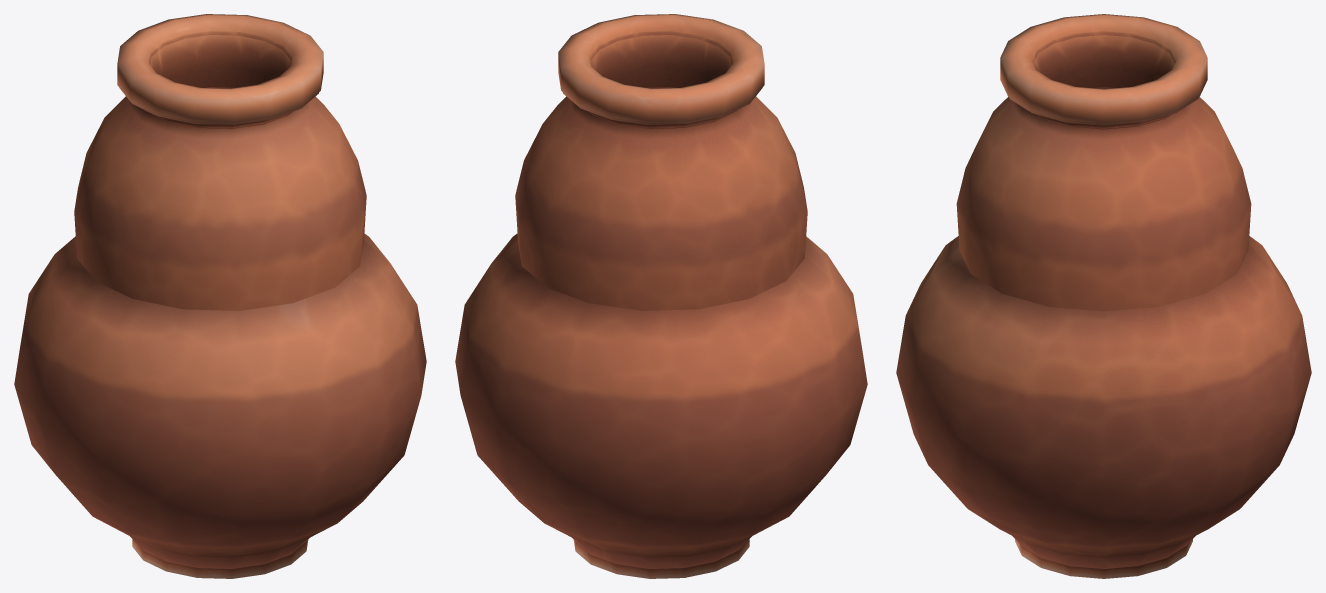
Rendered from 3pots_exp1.fbx.
3 renders of one model, left to right at view 1: azimuth 30°, elevation 25°; view 2: azimuth 150°, elevation 25°; view 3: azimuth 270°, elevation 25°, orthographic.
Parts seen in each view (by area): view 1: pot1_low, pot3_low, pot2_low; view 2: pot1_low, pot3_low, pot2_low; view 3: pot1_low, pot3_low, pot2_low.
Boxes of the visible parts, left/top/right/bottom form: pot1_low: left=14, top=233, right=426, bottom=578; pot3_low: left=74, top=14, right=366, bottom=310; pot2_low: left=119, top=31, right=318, bottom=568; pot1_low: left=455, top=233, right=867, bottom=578; pot3_low: left=515, top=14, right=807, bottom=310; pot2_low: left=563, top=31, right=762, bottom=568; pot1_low: left=896, top=236, right=1311, bottom=578; pot3_low: left=956, top=14, right=1251, bottom=311; pot2_low: left=1009, top=31, right=1198, bottom=568.
Bounding box in the file's own units: 165 × 214 × 165.
Materials: 1 (1 with a texture image).
